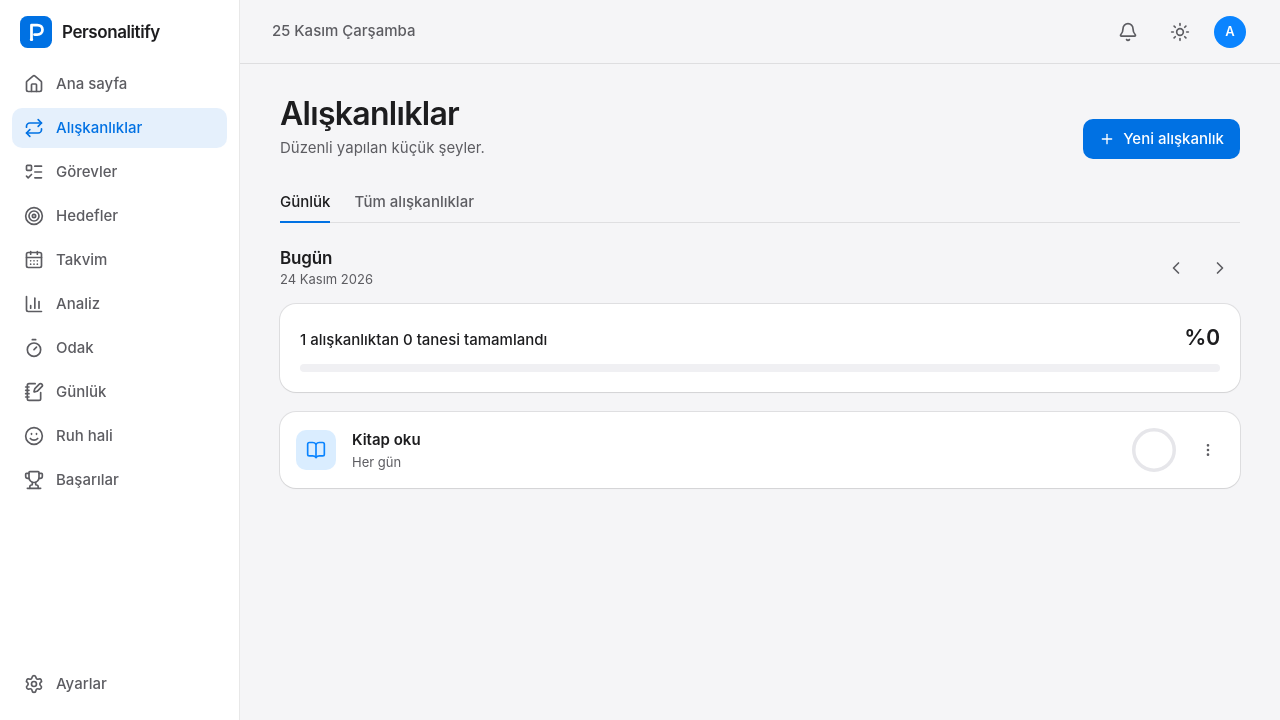
Test: habits day view › skips a day from the habit’s menu
This screenshot has width=1280, height=720.
Click the button named "Kitap oku için diğer işlemler".
click(1208, 450)  # box [1192,434,1224,466]
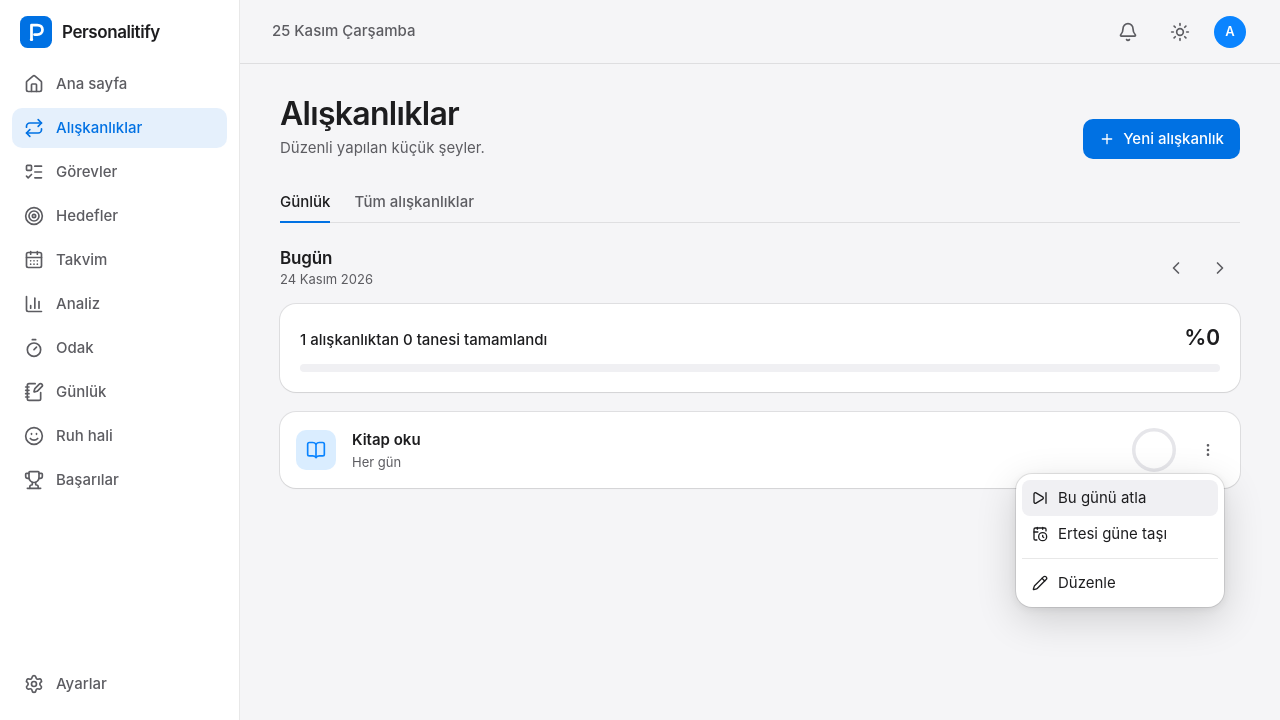
Click the menu item "Bu günü atla".
click(1120, 498)  # box [1022,480,1218,516]
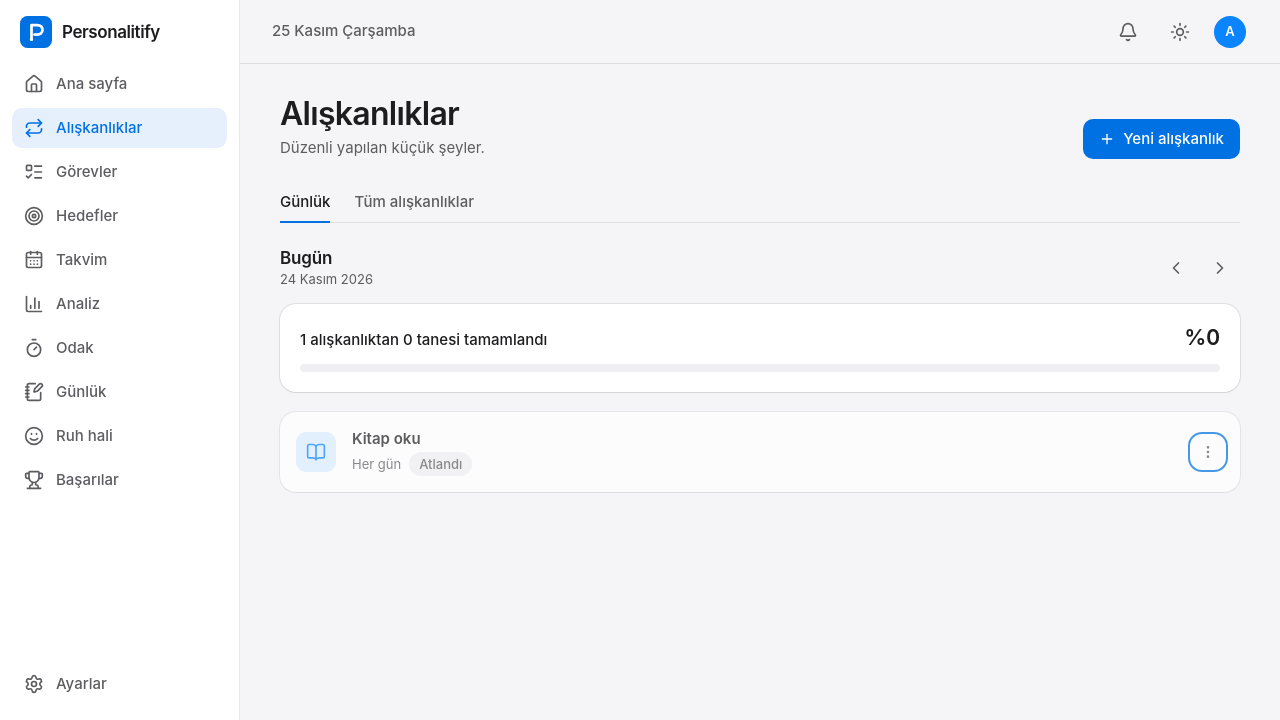
Check: the text "Atlandı" is shown, box [409,452,472,476]
Check: the checkbox is gone
